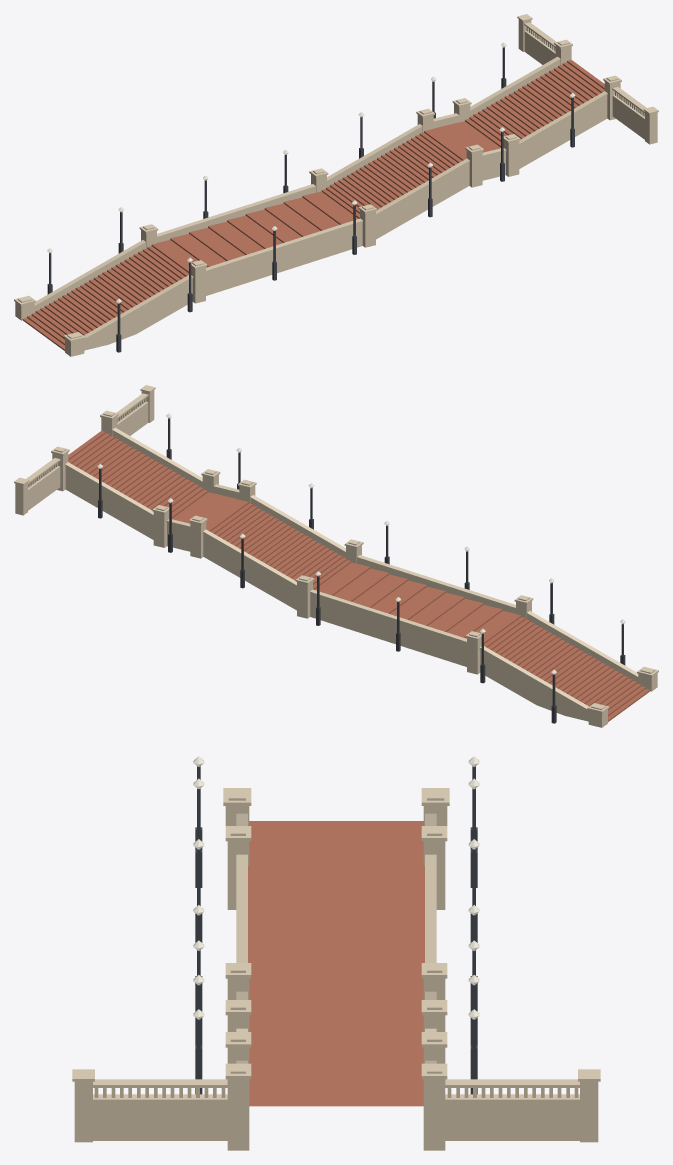
Rendered from la-janss-steps.glb.
The picture shows the model from 3 angles, top to bottom: view 1: azimuth 30°, elevation 25°; view 2: azimuth 150°, elevation 25°; view 3: azimuth 270°, elevation 25°; orthographic projection. The views are drawn at different scales.
Parts seen in each view (by area): view 1: Janss Steps; view 2: Janss Steps; view 3: Janss Steps.
Boxes of the visible parts, x1=… form: Janss Steps: x1=14, y1=14, x2=658, y2=356; Janss Steps: x1=14, y1=385, x2=658, y2=727; Janss Steps: x1=72, y1=756, x2=600, y2=1150.
Bounding box in the file's own units: 62.05 × 15.94 × 25.7.
